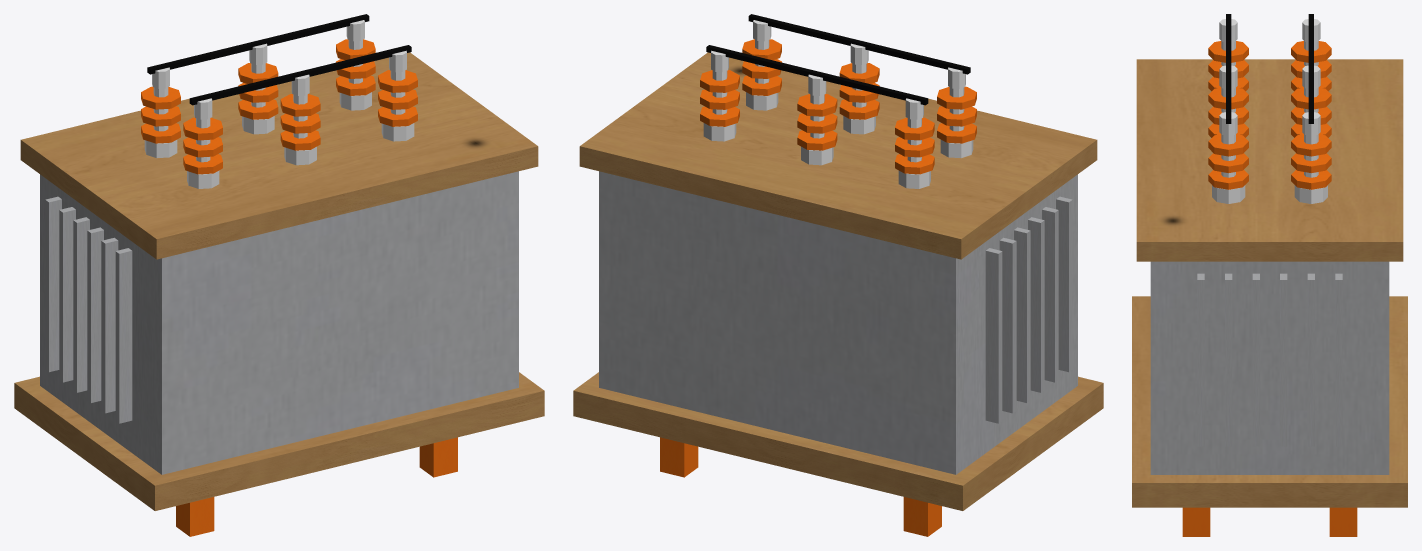
The model's file is Transformador.fbx.
The picture shows the model from 3 angles, left to right: view 1: azimuth 30°, elevation 25°; view 2: azimuth 150°, elevation 25°; view 3: azimuth 270°, elevation 25°; orthographic projection.
Visible parts, largest first — view 1: Radiador, Tapas, Aisladores, Base Aislador, Cables, Patas; view 2: Radiador, Tapas, Aisladores, Base Aislador, Cables, Patas; view 3: Tapas, Radiador, Aisladores, Base Aislador, Patas, Cables.
Part boxes in pixels (bbox=[...]): Radiador: bbox=[40, 171, 518, 474]; Tapas: bbox=[14, 52, 544, 510]; Aisladores: bbox=[141, 39, 417, 174]; Base Aislador: bbox=[144, 17, 414, 188]; Cables: bbox=[147, 14, 411, 105]; Patas: bbox=[176, 437, 457, 536]; Radiador: bbox=[599, 171, 1077, 474]; Tapas: bbox=[573, 52, 1103, 510]; Aisladores: bbox=[700, 39, 976, 174]; Base Aislador: bbox=[703, 17, 973, 188]; Cables: bbox=[706, 14, 970, 105]; Patas: bbox=[660, 437, 941, 536]; Tapas: bbox=[1132, 59, 1407, 507]; Radiador: bbox=[1150, 261, 1389, 474]; Aisladores: bbox=[1208, 41, 1331, 189]; Base Aislador: bbox=[1212, 19, 1327, 203]; Patas: bbox=[1182, 507, 1357, 536]; Cables: bbox=[1226, 14, 1313, 123].
Size of the model in its own units: 486 by 488 by 300.
Materials: 5 (5 with a texture image).
